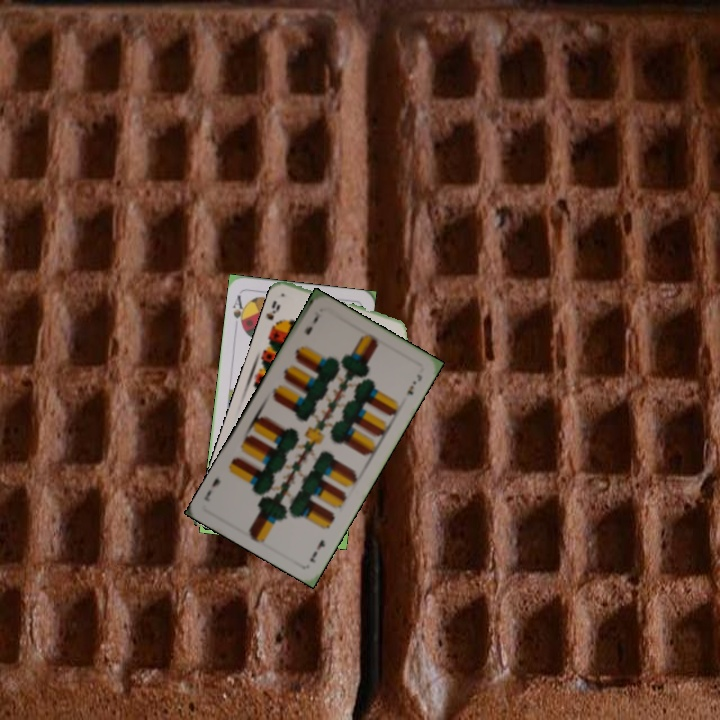E7: (300, 307, 322, 338), (306, 535, 328, 566)
S9: (263, 296, 283, 334)
SA: (228, 291, 249, 331)
